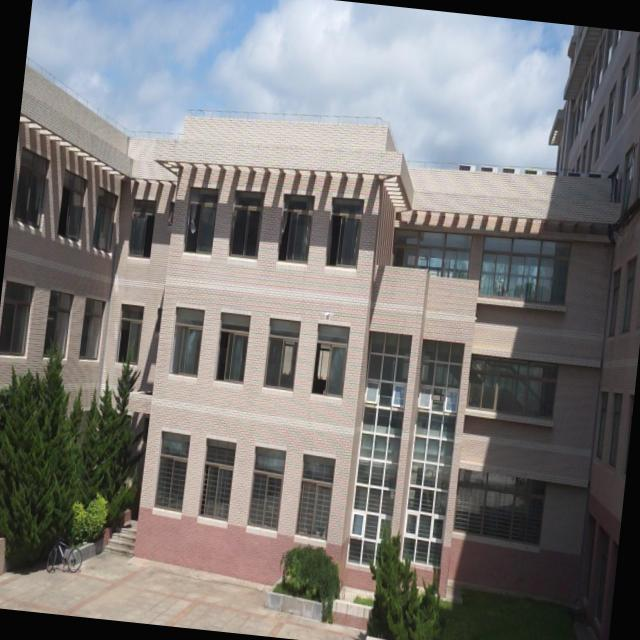drone: (320, 304, 336, 324)
